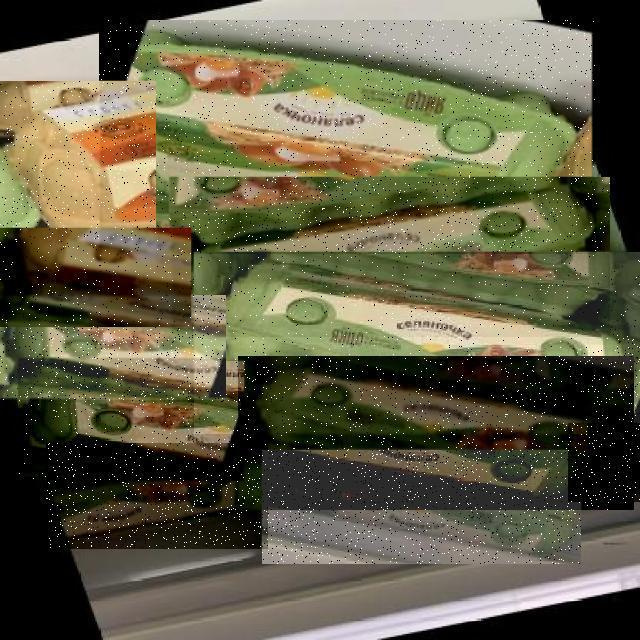Eggs: (100, 20, 596, 254), (194, 252, 640, 434), (172, 177, 610, 337), (238, 356, 634, 510), (262, 450, 581, 564), (1, 81, 157, 270), (18, 361, 244, 481), (0, 296, 226, 402), (47, 443, 269, 549), (0, 228, 191, 327), (568, 423, 640, 502), (617, 333, 640, 431)
